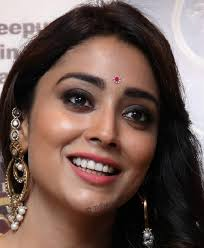indian_female: (21, 11, 172, 209)
